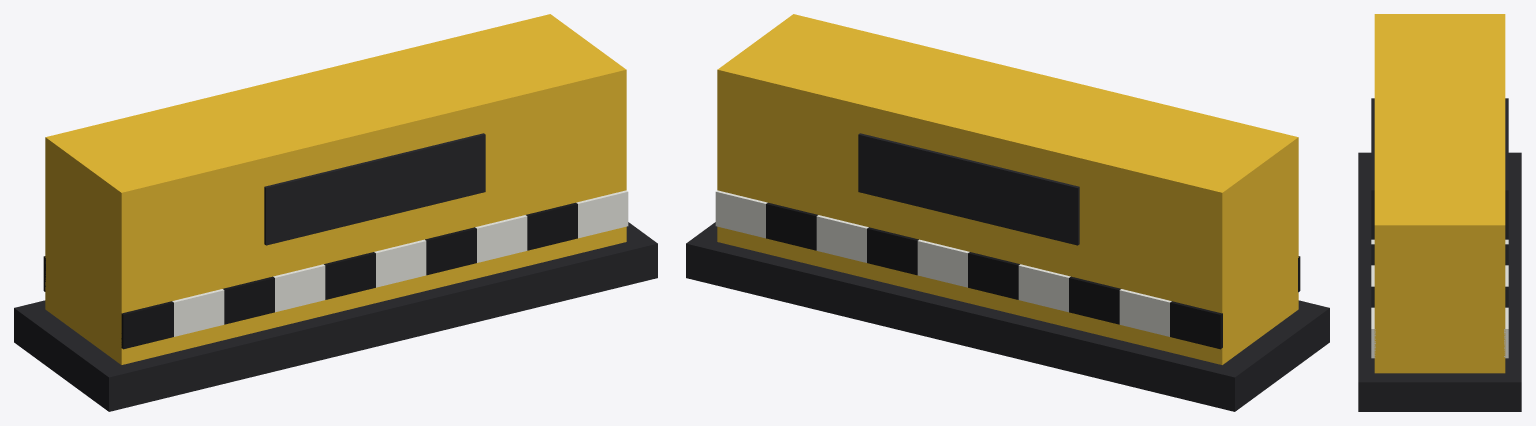
Rendered from garage_taxi_sign.glb.
3 renders of one model, left to right at view 1: azimuth 30°, elevation 25°; view 2: azimuth 150°, elevation 25°; view 3: azimuth 270°, elevation 25°, orthographic. The views are drawn at different scales.
Parts seen in each view (by area): view 1: sign_taxi_yellow, base_flash_black, word_flash_black, checks_check_black (×5), checks_check_white (×5); view 2: sign_taxi_yellow, base_flash_black, word_flash_black, checks_check_black (×5), checks_check_white (×5); view 3: sign_taxi_yellow, base_flash_black, word_flash_black (×2), checks_check_white (×2).
Part boxes in pixels (<box>): sign_taxi_yellow: <box>45,14,626,364</box>; base_flash_black: <box>14,222,657,411</box>; word_flash_black: <box>264,133,485,245</box>; checks_check_black (×5): <box>121,202,577,349</box>; checks_check_white (×5): <box>172,190,628,336</box>; sign_taxi_yellow: <box>717,14,1298,364</box>; base_flash_black: <box>686,222,1329,411</box>; word_flash_black: <box>858,133,1079,245</box>; checks_check_black (×5): <box>766,202,1222,349</box>; checks_check_white (×5): <box>715,190,1171,336</box>; sign_taxi_yellow: <box>1374,14,1505,373</box>; base_flash_black: <box>1358,152,1521,411</box>; word_flash_black (×2): <box>1371,98,1508,239</box>; checks_check_white (×2): <box>1371,307,1508,358</box>.
Bounding box in the file's own units: 0.5 × 0.18 × 0.15.
